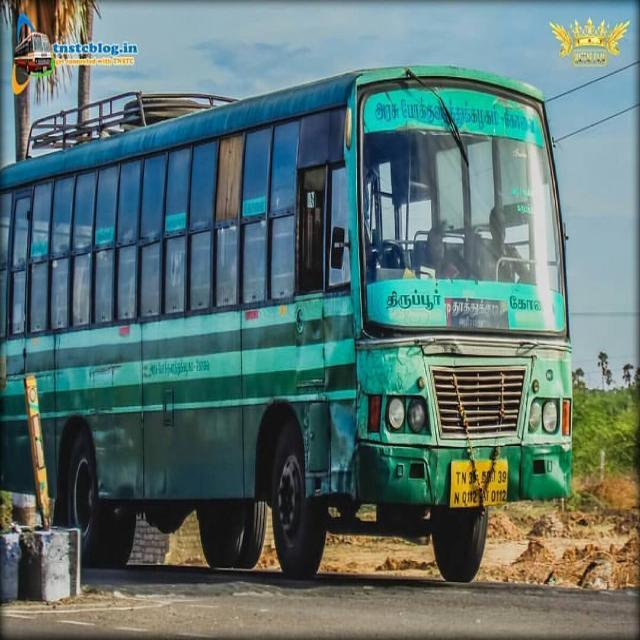Bus: (2, 63, 576, 577)
